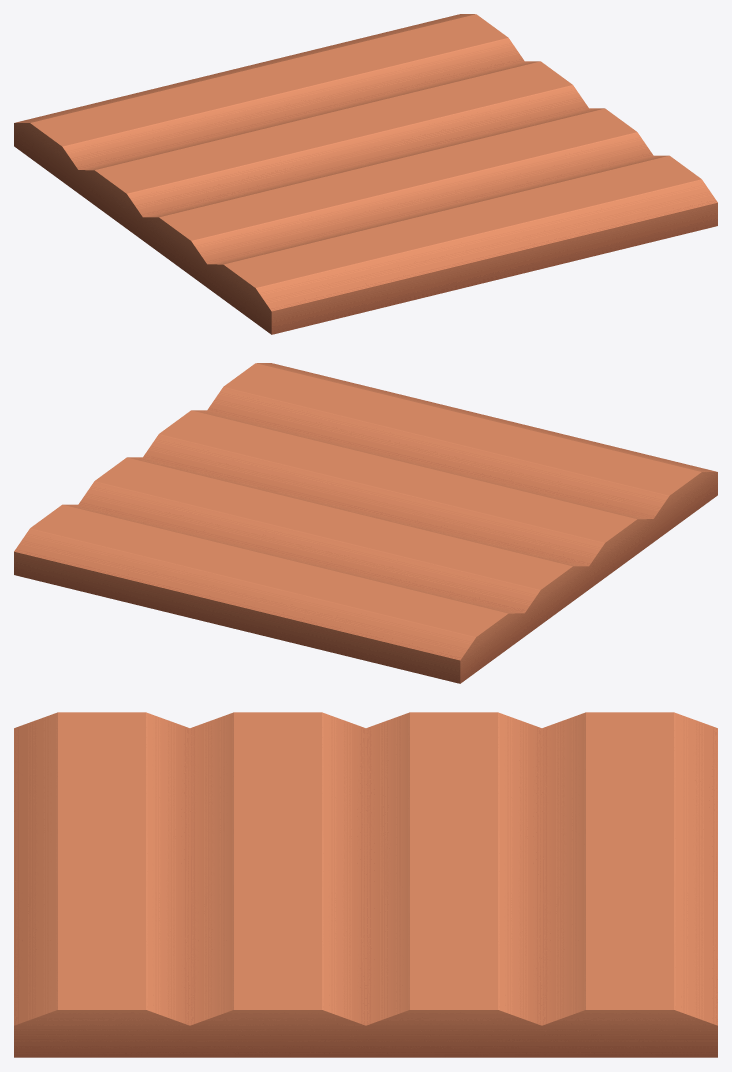
Rendered from floor-wood.glb.
3 renders of one model, top to bottom at view 1: azimuth 30°, elevation 25°; view 2: azimuth 150°, elevation 25°; view 3: azimuth 270°, elevation 25°, orthographic. The views are drawn at different scales.
Visible parts, largest first — view 1: floor-wood; view 2: floor-wood; view 3: floor-wood.
Part boxes in pixels (x1=…): floor-wood: x1=14, y1=14, x2=717, y2=334; floor-wood: x1=14, y1=363, x2=717, y2=683; floor-wood: x1=14, y1=712, x2=717, y2=1057.
Bounding box in the file's own units: 3 × 0.225 × 3.
1 material, 1 textured.
